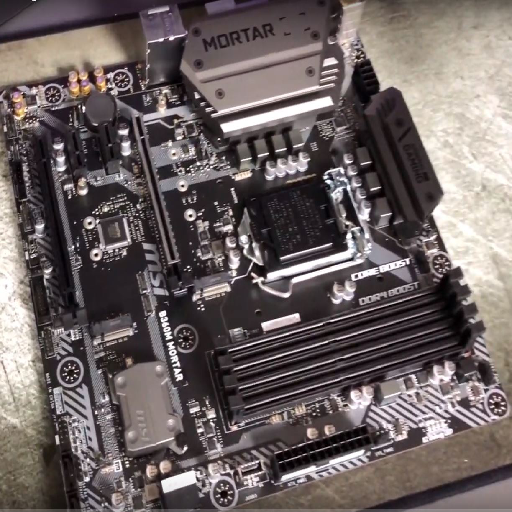CPU: (228, 153, 378, 296)
GPU: (131, 115, 180, 269)
MOTHERBOARD: (3, 2, 509, 510)
RAM: (207, 268, 484, 426)
SSD: (85, 312, 138, 346), (191, 270, 231, 300)
